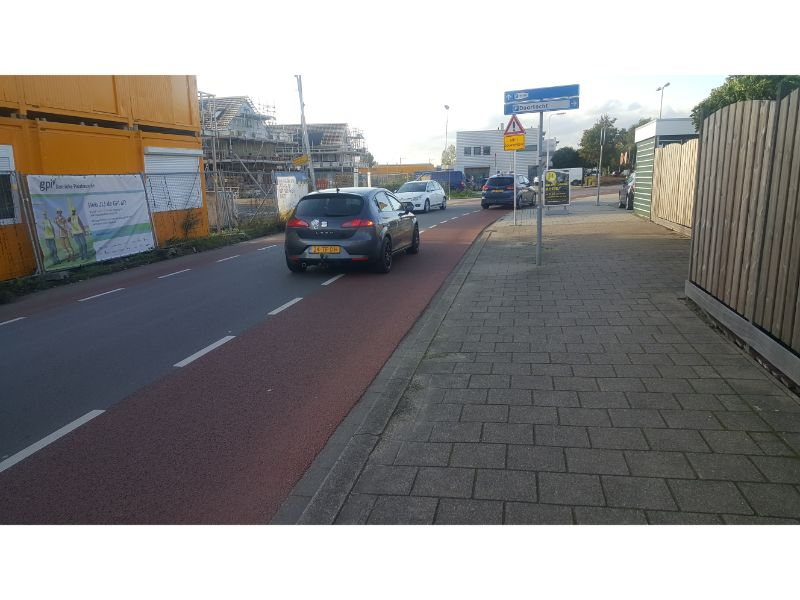kenteken: (309, 245, 340, 255)
